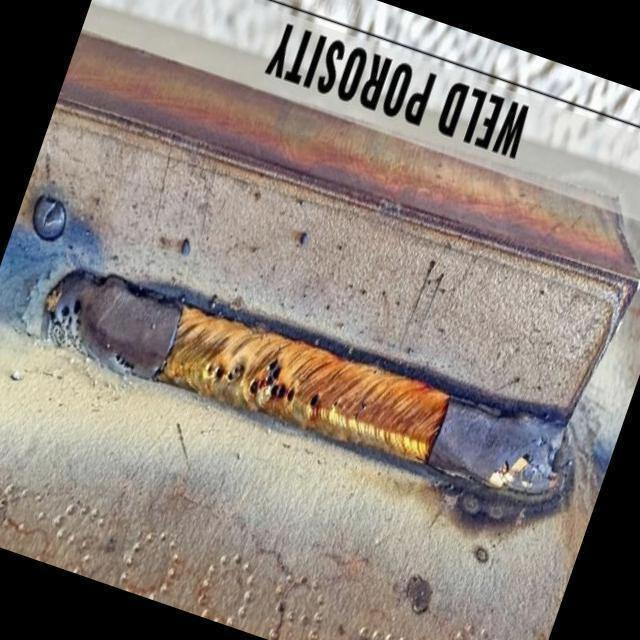defect: (245, 351, 299, 407), (49, 297, 91, 361), (204, 362, 244, 384), (113, 352, 136, 373), (351, 402, 368, 423), (309, 389, 322, 412), (329, 400, 340, 413)
